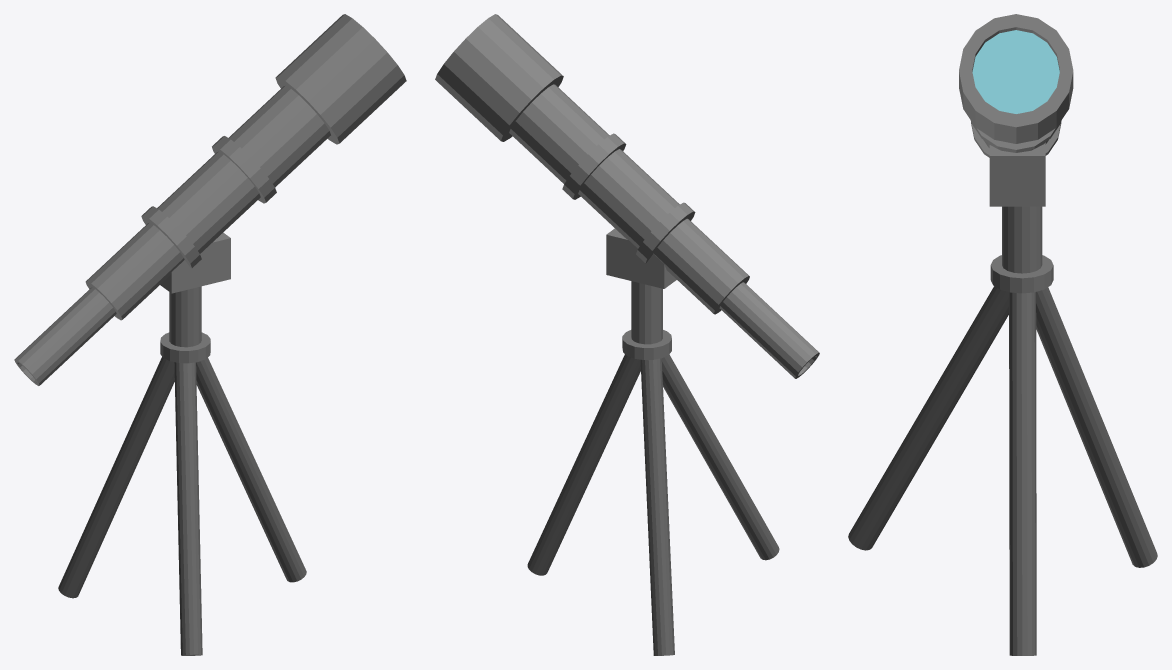
Rendered from telescope_.fbx.
The picture shows the model from 3 angles, left to right: view 1: azimuth 30°, elevation 25°; view 2: azimuth 150°, elevation 25°; view 3: azimuth 270°, elevation 25°; orthographic projection. The views are drawn at different scales.
Parts seen in each view (by area): view 1: Cylinder, Cylinder.002, Cylinder.003, Cylinder.004, Cylinder.001, Cube; view 2: Cylinder, Cylinder.003, Cylinder.004, Cylinder.002, Cylinder.001, Cube; view 3: Cylinder.004, Cylinder.002, Cylinder.003, Cylinder, Cylinder.005, Cylinder.001, Cube.
Part boxes in pixels (bbox=[...]): Cylinder: bbox=[14, 14, 406, 385]; Cylinder.002: bbox=[174, 362, 202, 655]; Cylinder.003: bbox=[58, 356, 174, 598]; Cylinder.004: bbox=[196, 357, 306, 582]; Cylinder.001: bbox=[160, 286, 210, 363]; Cube: bbox=[160, 232, 230, 293]; Cylinder: bbox=[435, 14, 819, 378]; Cylinder.003: bbox=[640, 358, 674, 655]; Cylinder.004: bbox=[527, 354, 640, 575]; Cylinder.002: bbox=[661, 354, 779, 560]; Cylinder.001: bbox=[622, 281, 671, 359]; Cube: bbox=[606, 228, 676, 288]; Cylinder.004: bbox=[1009, 292, 1036, 655]; Cylinder.002: bbox=[848, 286, 1008, 550]; Cylinder.003: bbox=[1036, 287, 1157, 567]; Cylinder: bbox=[959, 14, 1073, 157]; Cylinder.005: bbox=[972, 30, 1059, 113]; Cylinder.001: bbox=[990, 206, 1053, 293]; Cube: bbox=[989, 142, 1045, 206].
Size of the model in its own units: 269 by 379 by 155.
